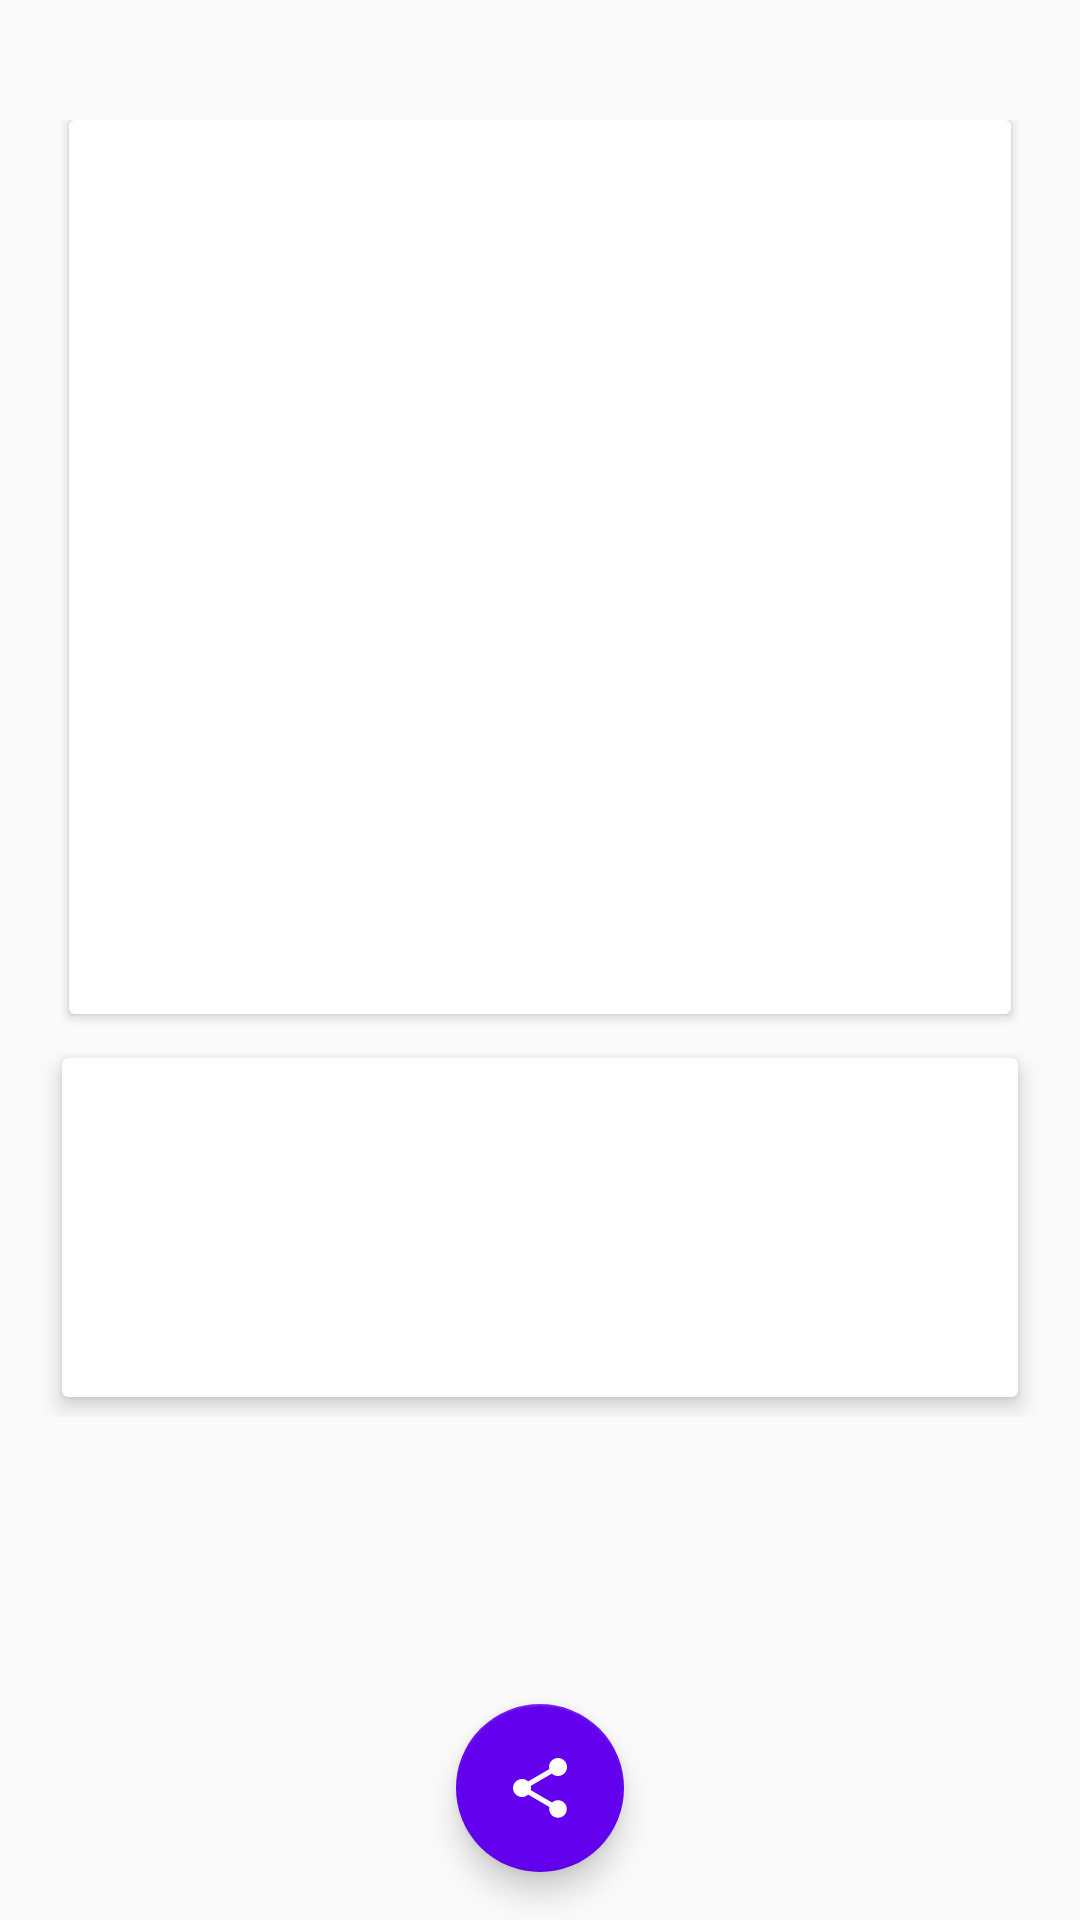

Screen size 1080*1920. Icon name, then its box in pixels as (x1, y1, x2, y2):
share: (456, 1704, 624, 1872)
